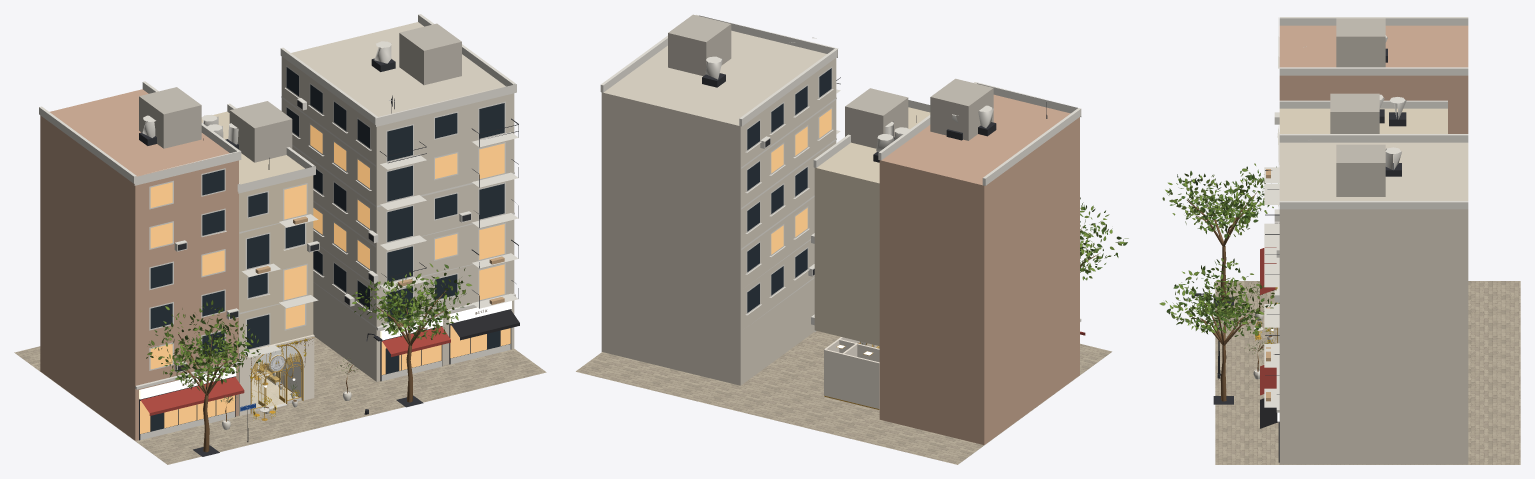
The model's file is gallery-50_lod2.glb.
The picture shows the model from 3 angles, left to right: view 1: azimuth 30°, elevation 25°; view 2: azimuth 150°, elevation 25°; view 3: azimuth 270°, elevation 25°; orthographic projection.
Visible parts, largest first — view 1: bw5, bw1, bwtrim, win, paving, win_lit_n, bw3, facade_hi, leaf, leaf2, iron, aw_r (+7 smaller); view 2: bw1, bw5, paving, facade_hi, bwtrim, bw3, plaster, win, win_lit_n, leaf, iron; view 3: bw1, paving, bw5, bwtrim, bw3, leaf, facade_hi, leaf2, trunk, iron, aw_r, aw_k.
Part boxes in pixels (box(x1,y1,x2,y2)): bw5: box(40, 89, 238, 440); bw1: box(281, 22, 514, 381); bwtrim: box(39, 14, 518, 439); win: box(150, 67, 504, 431); paving: box(14, 337, 546, 464); win_lit_n: box(140, 125, 510, 433); bw3: box(139, 23, 461, 162); facade_hi: box(201, 111, 313, 352); leaf: box(147, 263, 471, 390); leaf2: box(146, 264, 470, 408); iron: box(139, 58, 518, 456); aw_r: box(140, 326, 450, 415); bw1: box(601, 30, 836, 385); bw5: box(879, 94, 1079, 444); paving: box(576, 331, 1111, 464); facade_hi: box(814, 107, 930, 345); bwtrim: box(600, 14, 1081, 331); bw3: box(668, 14, 993, 148); plaster: box(824, 337, 879, 409); win: box(747, 68, 831, 312); win_lit_n: box(771, 109, 831, 254); leaf: box(1080, 205, 1128, 280); iron: box(702, 73, 1047, 275); bw1: box(1279, 142, 1468, 464); paving: box(1215, 281, 1520, 464); bw5: box(1279, 25, 1468, 133); bwtrim: box(1264, 17, 1468, 412); bw3: box(1330, 18, 1385, 196); leaf: box(1159, 163, 1279, 336); facade_hi: box(1279, 108, 1447, 133); leaf2: box(1164, 166, 1275, 336); trunk: box(1187, 190, 1276, 401); iron: box(1191, 48, 1406, 462); aw_r: box(1260, 247, 1276, 395); aw_k: box(1260, 398, 1277, 428).
Size of the model in its own units: 30.6 by 22.09 by 24.89.
Materials: 66 (17 with a texture image).
